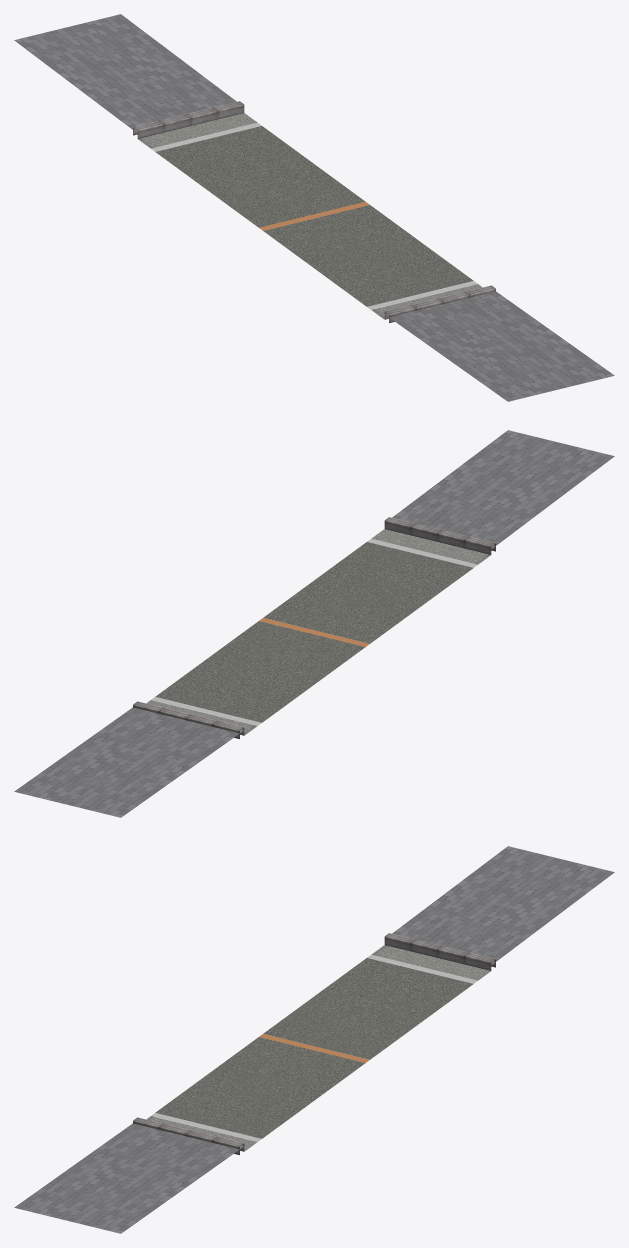
File: Street_2m.fbx
3 views of the same model, one above another, from view 1: azimuth 30°, elevation 25°; view 2: azimuth 150°, elevation 25°; view 3: azimuth 330°, elevation 25° (orthographic).
Visible parts, largest first — view 1: 001_roadway_8x2m, 500_sidewalk_w4m_2m, 500_sidewalk_w4m_2m.001, 100_curb_2m, 100_curb_2m.001; view 2: 001_roadway_8x2m, 500_sidewalk_w4m_2m.001, 500_sidewalk_w4m_2m, 100_curb_2m.001, 100_curb_2m; view 3: 001_roadway_8x2m, 500_sidewalk_w4m_2m, 500_sidewalk_w4m_2m.001, 100_curb_2m, 100_curb_2m.001.
Boxes of the visible parts, bbox=[...] form: 001_roadway_8x2m: bbox=[138, 113, 482, 319]; 500_sidewalk_w4m_2m: bbox=[14, 14, 236, 133]; 500_sidewalk_w4m_2m.001: bbox=[385, 291, 614, 401]; 100_curb_2m: bbox=[133, 101, 244, 138]; 100_curb_2m.001: bbox=[384, 285, 495, 322]; 001_roadway_8x2m: bbox=[146, 529, 490, 735]; 500_sidewalk_w4m_2m.001: bbox=[392, 430, 614, 549]; 500_sidewalk_w4m_2m: bbox=[14, 707, 243, 817]; 100_curb_2m.001: bbox=[384, 517, 495, 554]; 100_curb_2m: bbox=[133, 701, 244, 738]; 001_roadway_8x2m: bbox=[146, 945, 490, 1151]; 500_sidewalk_w4m_2m: bbox=[392, 846, 614, 965]; 500_sidewalk_w4m_2m.001: bbox=[14, 1123, 243, 1233]; 100_curb_2m: bbox=[384, 933, 495, 970]; 100_curb_2m.001: bbox=[133, 1117, 244, 1154].
Bounding box in the file's own units: 2 × 0.15 × 16.
